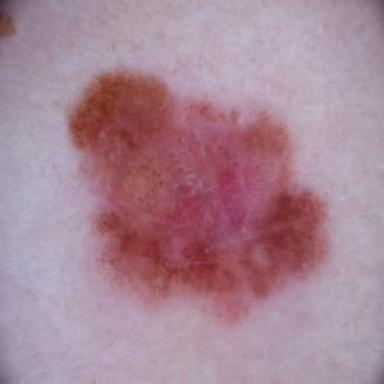Melanoma: (70, 70, 326, 320)
